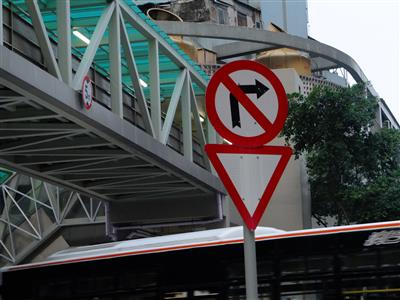5mHeightLimit: (80, 74, 94, 110)
noRightTurn: (203, 57, 288, 148)
yield: (202, 140, 293, 231)
